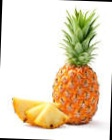Pineapple: (52, 6, 103, 128)
